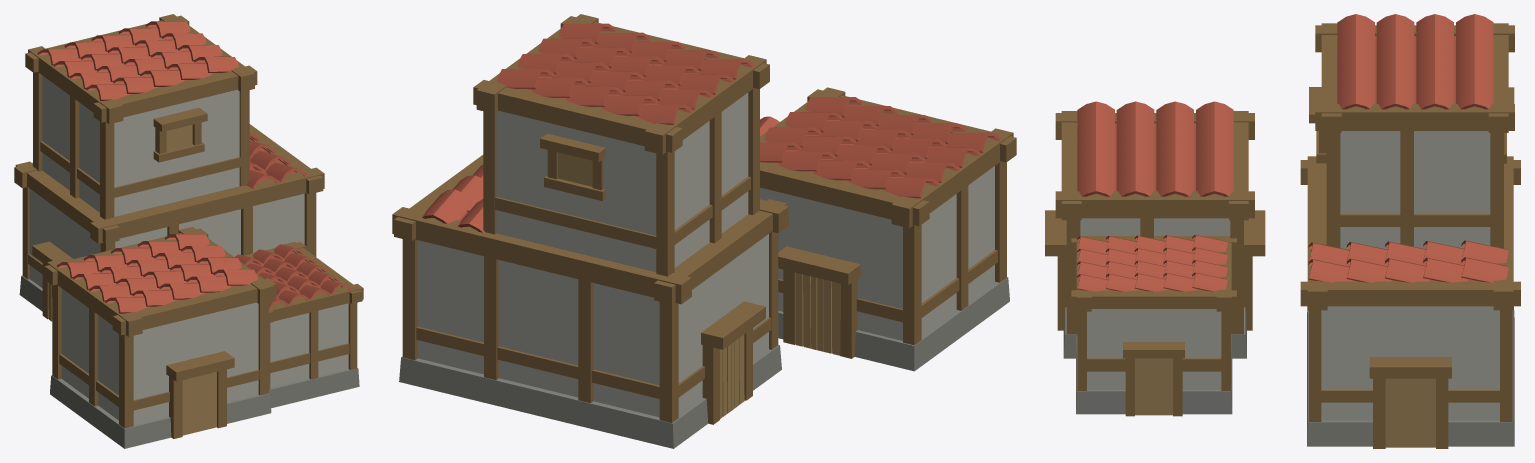
The model's file is Houses_SecondAge_3_Level3.glb.
3 renders of one model, left to right at view 1: azimuth 30°, elevation 25°; view 2: azimuth 150°, elevation 25°; view 3: azimuth 270°, elevation 25°, orthographic. The views are drawn at different scales.
Parts seen in each view (by area): view 1: Houses_SecondAge_3_Level3; view 2: Houses_SecondAge_3_Level3; view 3: Houses_SecondAge_3_Level3.
Boxes of the visible parts, <box> form: Houses_SecondAge_3_Level3: <box>14,14,363,448</box>; Houses_SecondAge_3_Level3: <box>392,14,1016,448</box>; Houses_SecondAge_3_Level3: <box>1045,14,1520,448</box>.
Bounding box in the file's own units: 1.35 × 1.06 × 1.46.
